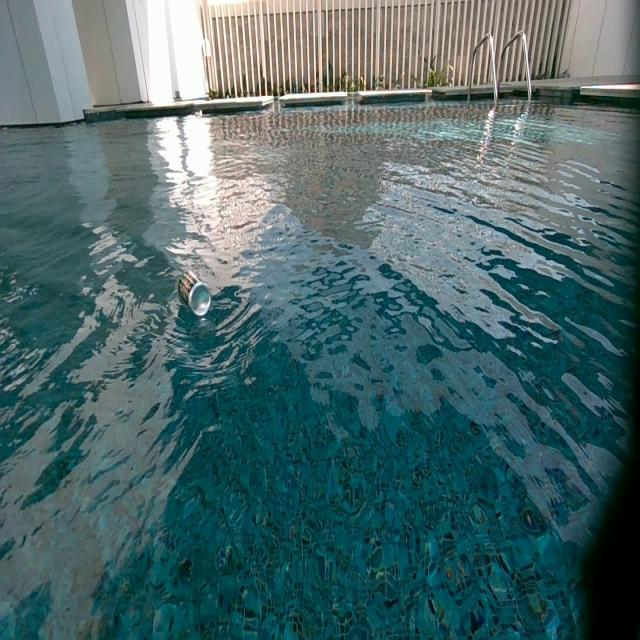Cans: (177, 272, 212, 316)
